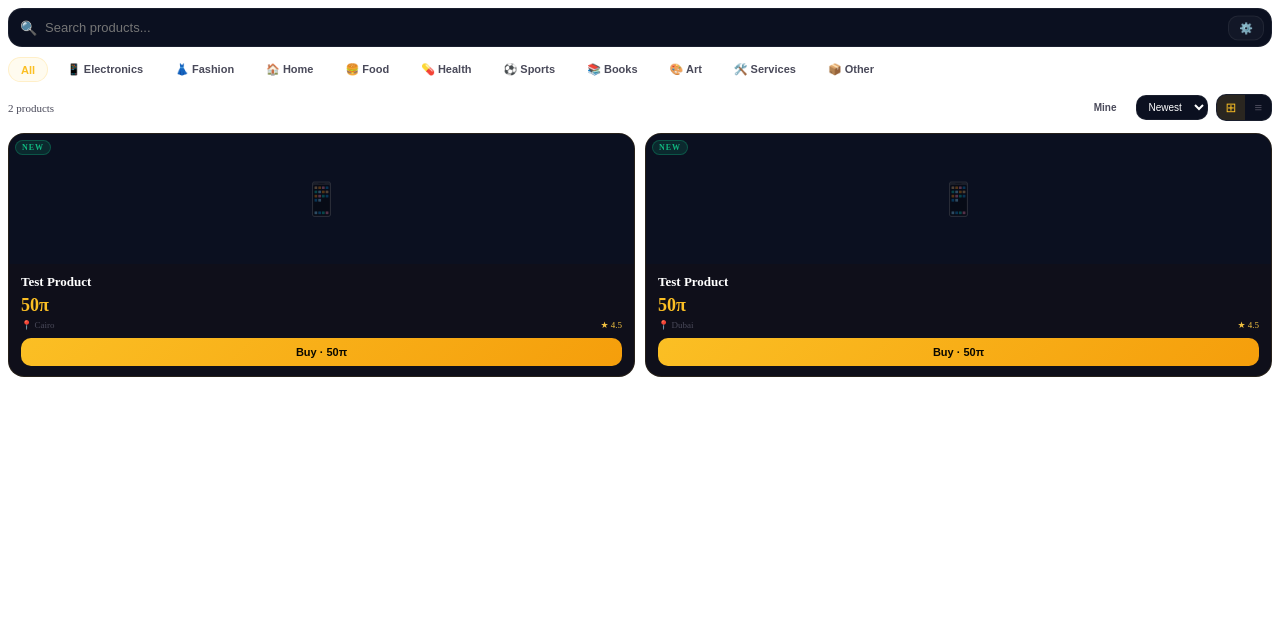
Test: ProductsTab › بيفلتر بالـ country
Click the button with test id "filter-toggle".
click(1246, 28)  # box [1228,15,1264,40]
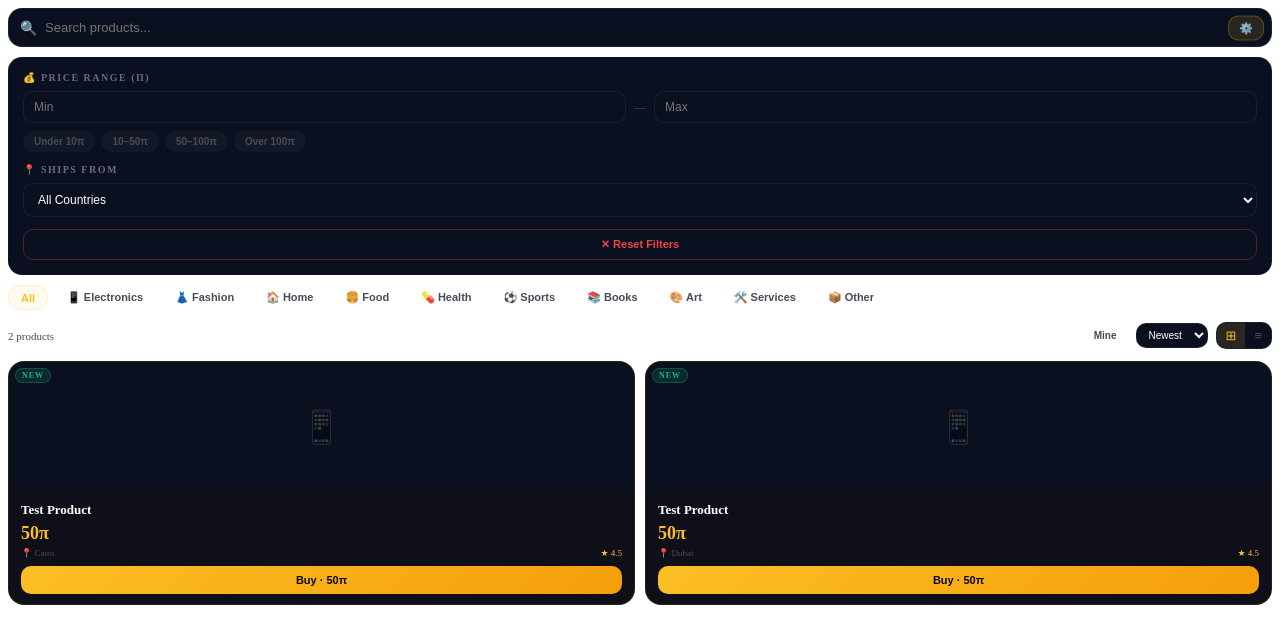
Select "Egypt" in the dropdown showing "All Countries" below "📍 Ships From" at (640, 200), box [23,183,1257,217]
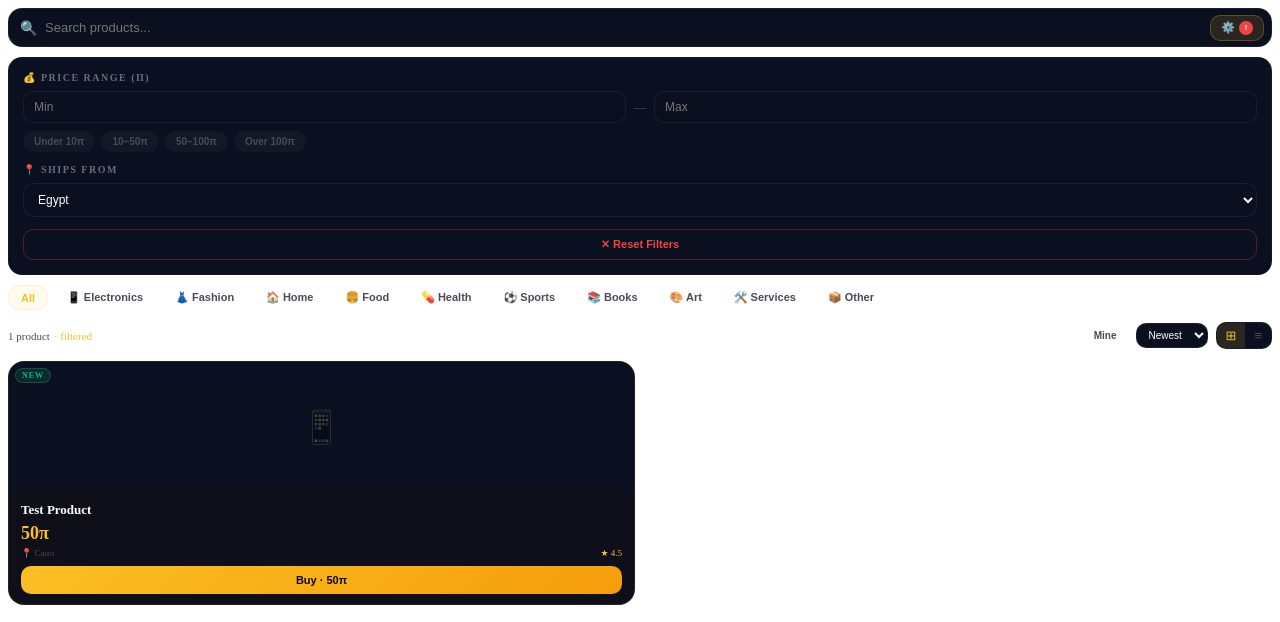
expect the element with test id "card-p1" is shown: met, box [8,361,635,605]
expect the element with test id "card-p2" is gone: met
